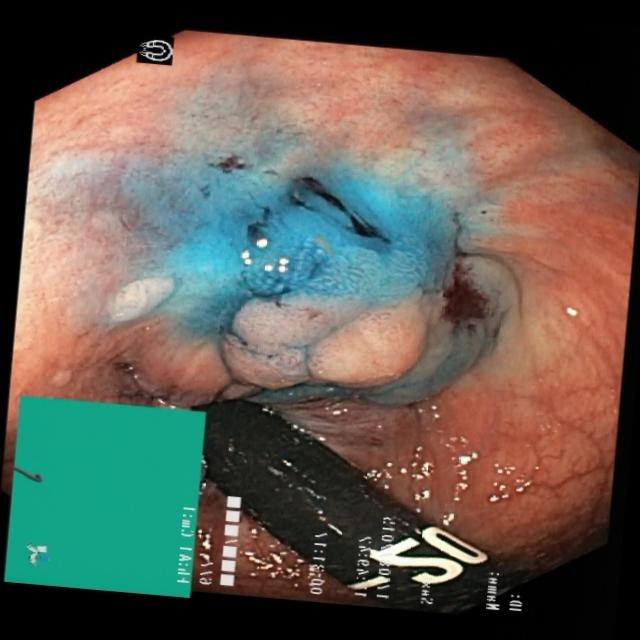dyed-lifted-polyps: (207, 146, 524, 419)
